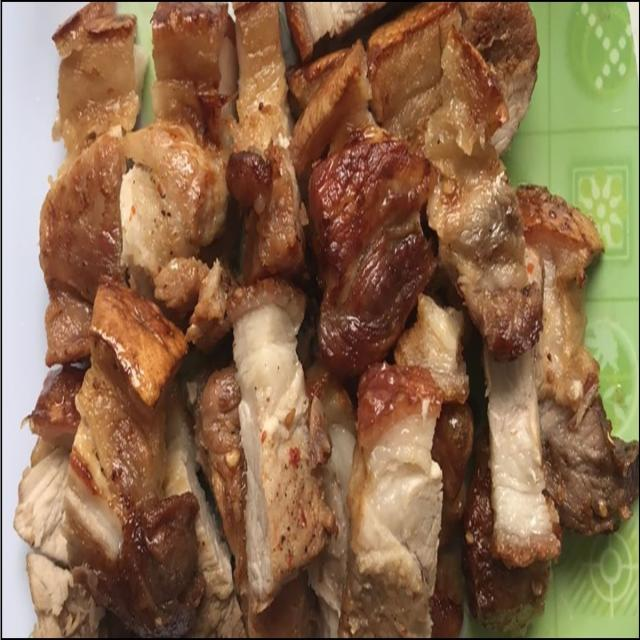thit chien: (367, 3, 543, 358), (290, 44, 437, 377), (233, 282, 335, 612), (66, 284, 187, 559), (340, 363, 443, 636), (153, 257, 245, 555), (13, 364, 102, 635), (226, 4, 306, 282), (39, 131, 125, 366), (119, 119, 228, 281), (484, 350, 561, 567), (52, 3, 148, 159), (151, 2, 236, 148), (116, 494, 204, 633)
